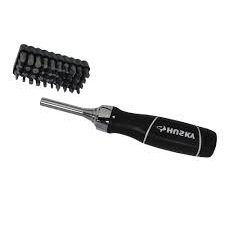Screwdriver: (32, 90, 219, 166)
